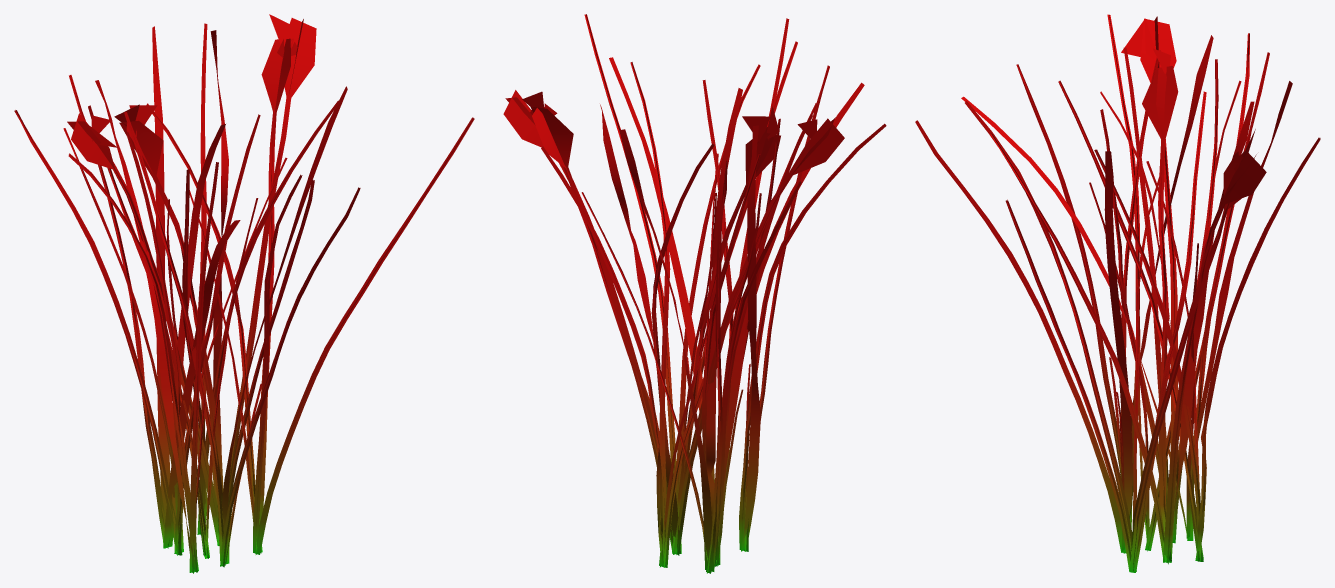
File: Var4_LOD0.fbx
3 renders of one model, left to right at view 1: azimuth 30°, elevation 25°; view 2: azimuth 150°, elevation 25°; view 3: azimuth 270°, elevation 25°, orthographic.
Visible parts, largest first — view 1: _f95c_Var4_LOD0; view 2: _f95c_Var4_LOD0; view 3: _f95c_Var4_LOD0.
Boxes of the visible parts, box(x1,y1,x2,y2) form: _f95c_Var4_LOD0: box(14, 14, 474, 573); _f95c_Var4_LOD0: box(503, 14, 886, 573); _f95c_Var4_LOD0: box(915, 14, 1320, 572).
Size of the model in its own units: 98.84 by 127 by 97.34.
